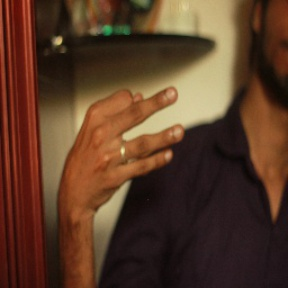K: (63, 91, 188, 192)
